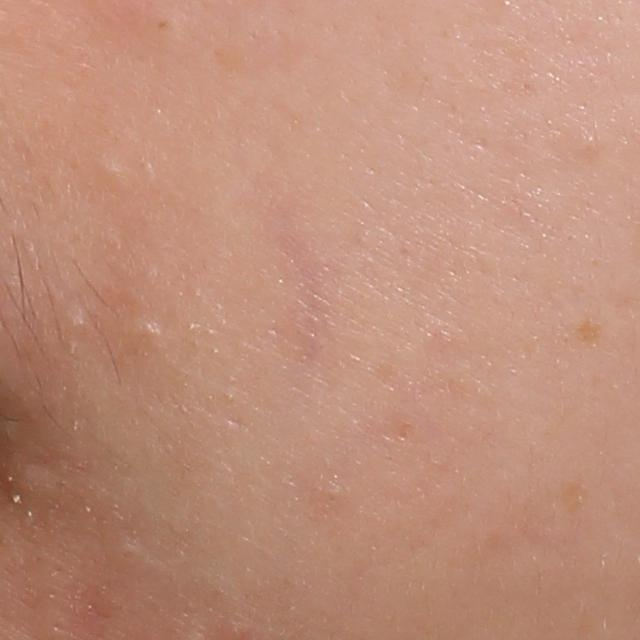comedo: (133, 317, 165, 338), (67, 310, 90, 333)
